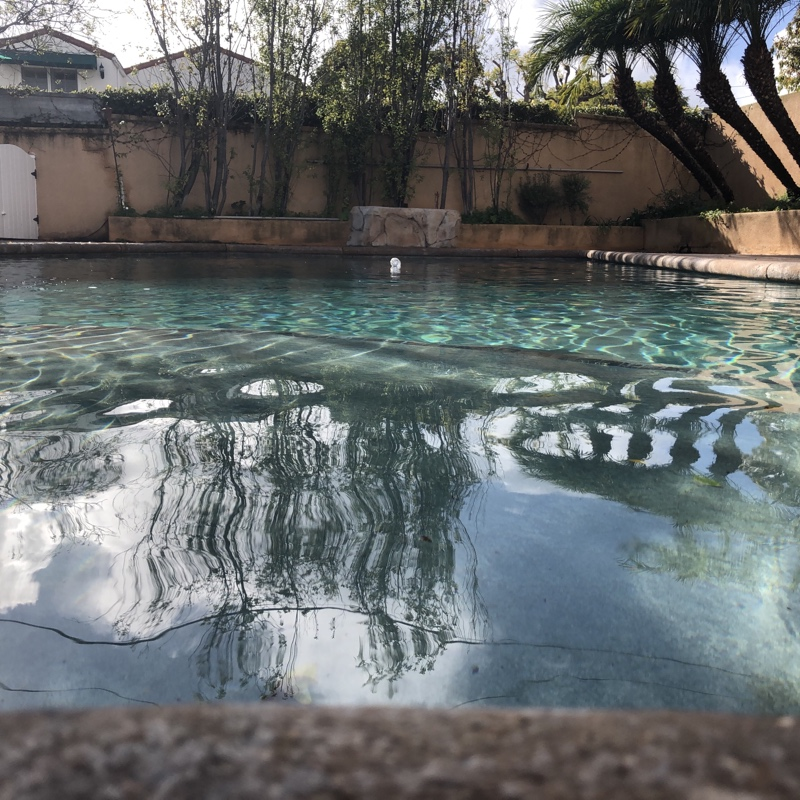Plastic Bottle: (388, 254, 401, 275)
